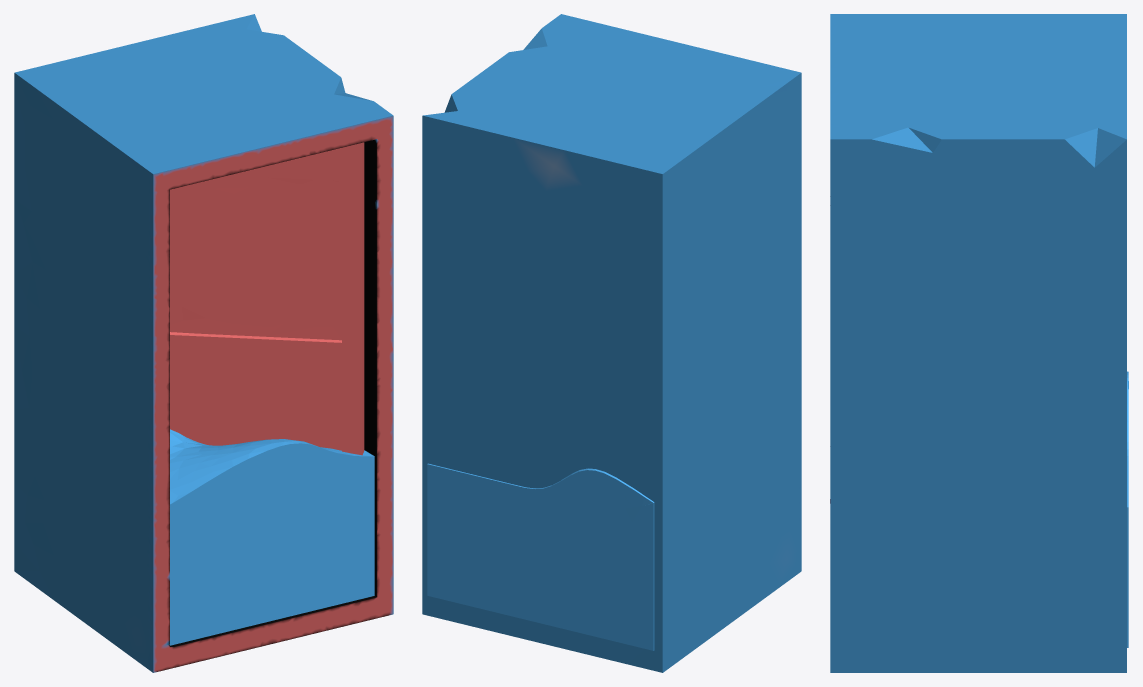
3 renders of one model, left to right at view 1: azimuth 30°, elevation 25°; view 2: azimuth 150°, elevation 25°; view 3: azimuth 270°, elevation 25°, orthographic. The views are drawn at different scales.
Parts seen in each view (by area): view 1: Frame, Door, Cylinder; view 2: Frame, Cylinder; view 3: Frame, Cylinder.
Part boxes in pixels (x1,y1,x2,y2): Frame: (14, 14, 393, 672); Door: (170, 142, 364, 455); Cylinder: (169, 429, 374, 645); Frame: (422, 14, 801, 672); Cylinder: (427, 463, 654, 650); Frame: (830, 14, 1126, 672); Cylinder: (1127, 371, 1128, 647).
Bounding box in the file's own units: 0.4101 × 0.8132 × 0.4126.
